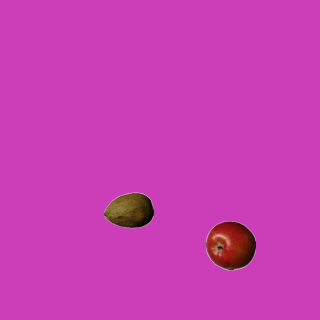Apple Braeburn: (205, 220, 255, 270)
Papaya: (103, 185, 153, 235)
